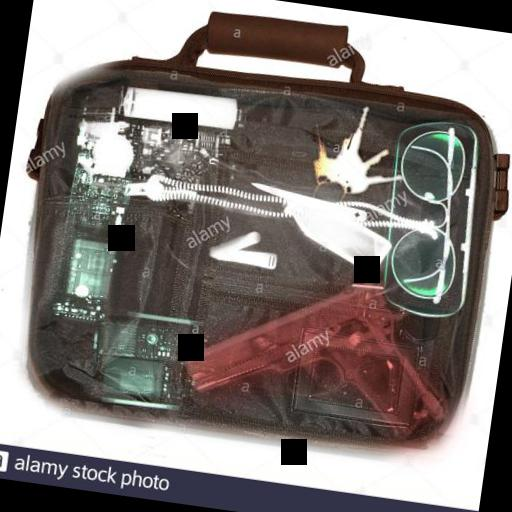Handgun: (182, 258, 464, 446)
